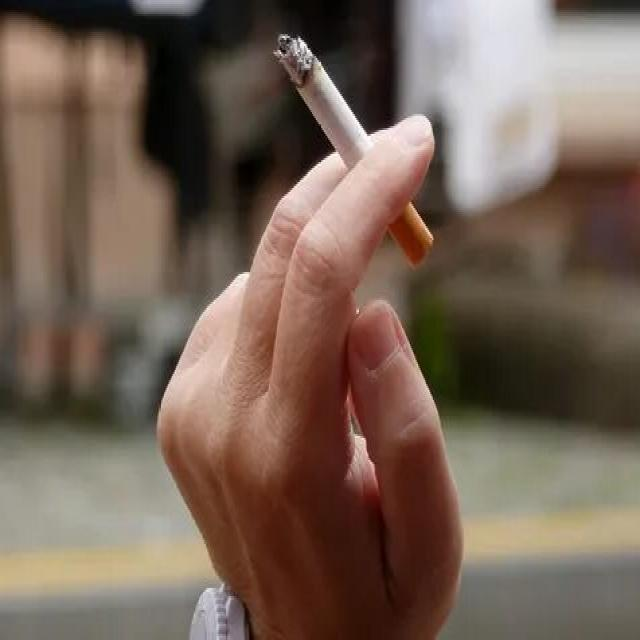smoke: (272, 28, 438, 274)
